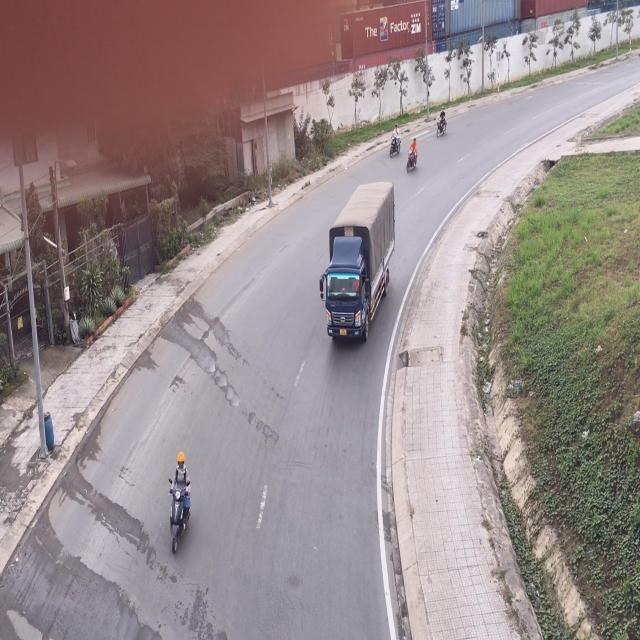motorbike: (170, 451, 194, 552), (408, 135, 422, 175), (436, 106, 449, 140), (389, 127, 402, 159)
truck: (322, 180, 394, 346)
